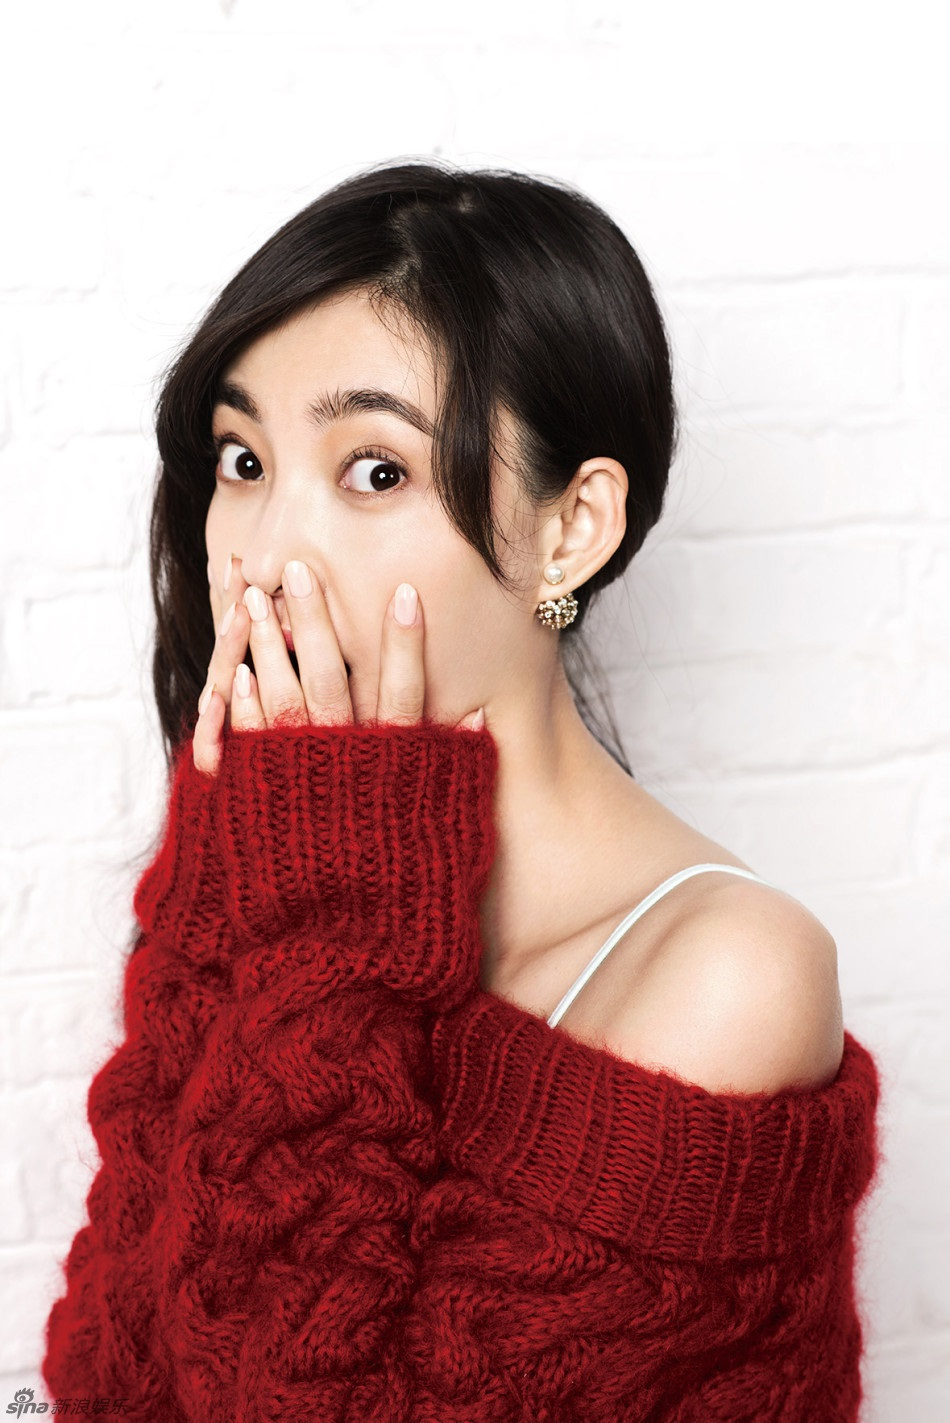face: (204, 288, 490, 765)
